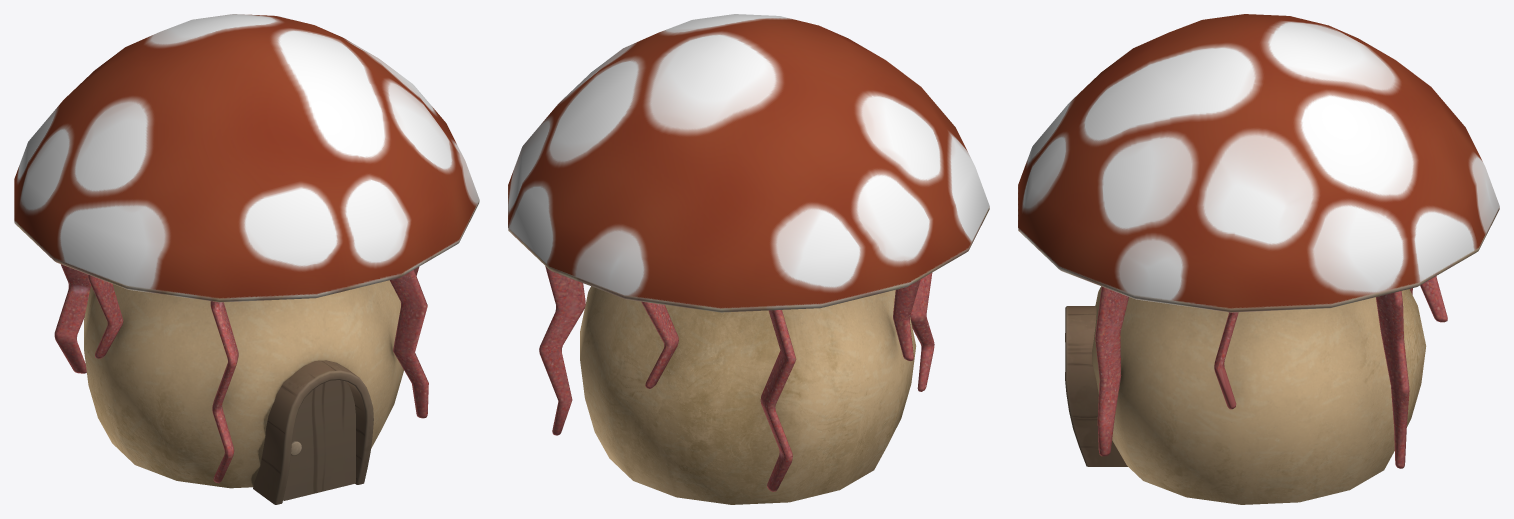
File: RedM.fbx
The picture shows the model from 3 angles, left to right: view 1: azimuth 30°, elevation 25°; view 2: azimuth 150°, elevation 25°; view 3: azimuth 270°, elevation 25°; orthographic projection. The views are drawn at different scales.
Parts seen in each view (by area): view 1: Circle.010, RedM, Door, Circle.007; view 2: Circle.010, RedM, Circle.007; view 3: Circle.010, RedM, Circle.007, Door.
Part boxes in pixels (bbox=[...]): Circle.010: bbox=[14, 14, 479, 302]; RedM: bbox=[84, 280, 403, 488]; Door: bbox=[253, 360, 373, 504]; Circle.007: bbox=[54, 264, 428, 483]; Circle.010: bbox=[508, 14, 989, 312]; RedM: bbox=[580, 286, 916, 504]; Circle.007: bbox=[539, 266, 934, 491]; Circle.010: bbox=[1018, 14, 1499, 312]; RedM: bbox=[1092, 286, 1426, 504]; Circle.007: bbox=[1095, 276, 1447, 468]; Door: bbox=[1065, 306, 1127, 466].
Bounding box in the file's own units: 525 × 496 × 522.
4 materials, 4 textured.
